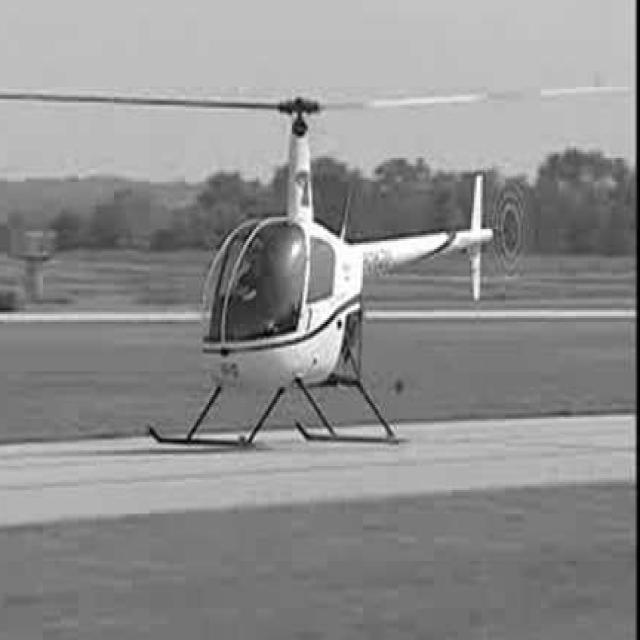helicopter: (53, 88, 591, 449)
